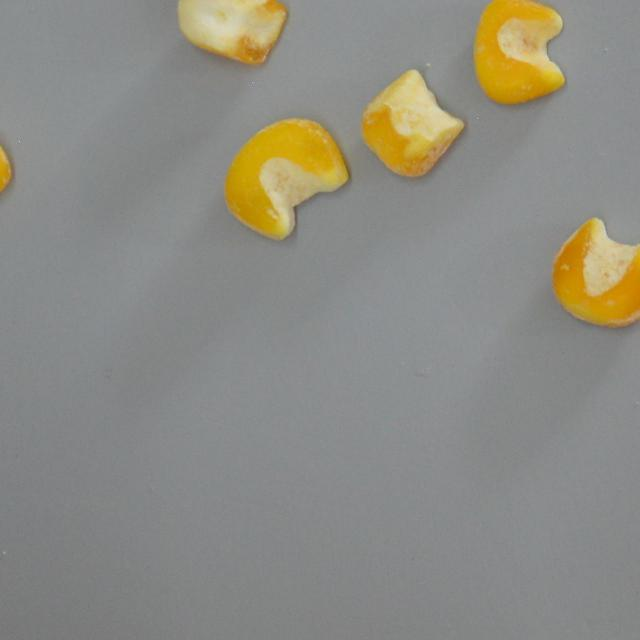no_canjicado: (472, 0, 566, 106), (0, 112, 13, 212)
pelicula: (221, 118, 348, 240), (358, 70, 463, 178), (549, 215, 640, 327), (174, 0, 286, 62)
